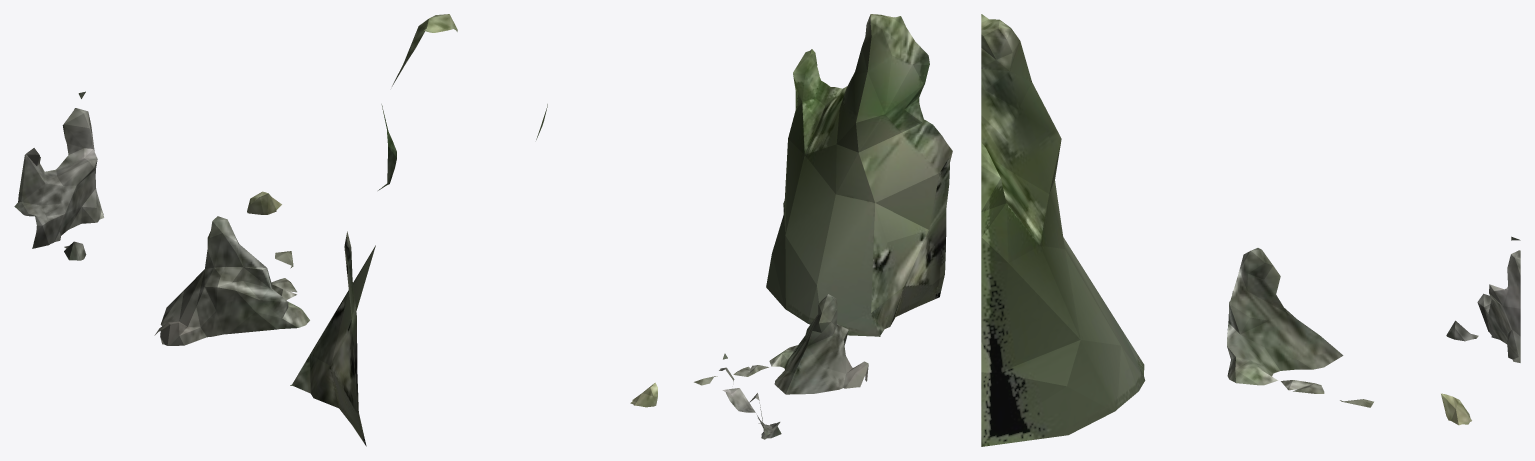
3 views of the same model, side by side, from view 1: azimuth 30°, elevation 25°; view 2: azimuth 150°, elevation 25°; view 3: azimuth 270°, elevation 25° (orthographic). The views are drawn at different scales.
Bounding box in the file's own units: 6.34 × 8.63 × 11.8.
1 material, 1 textured.
